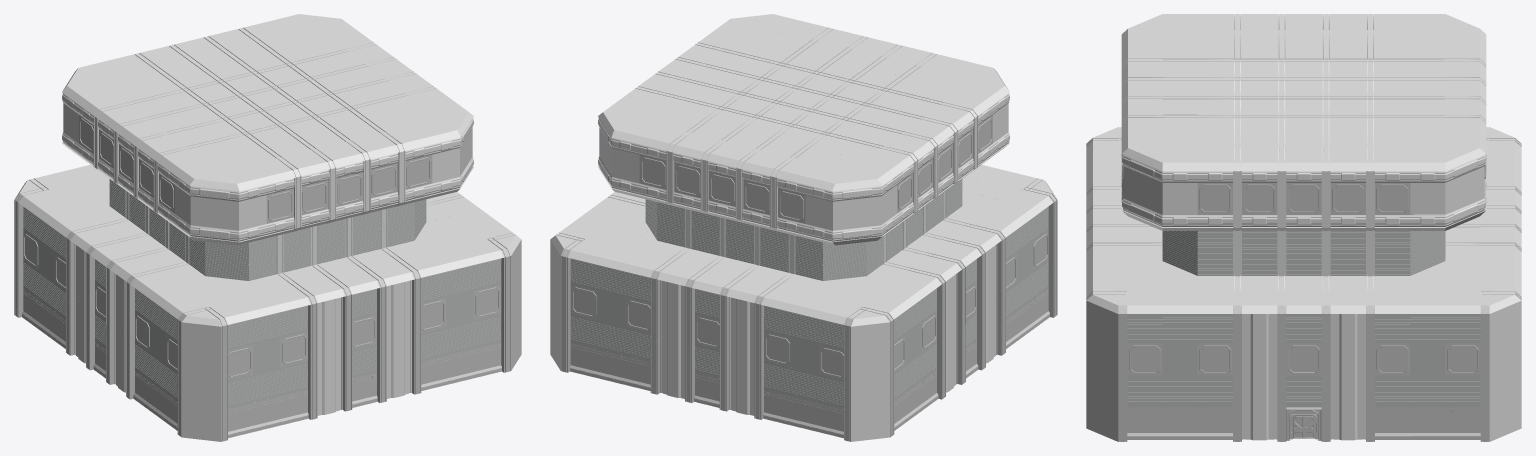
File: wall_2x4_corner_fbx.fbx
3 views of the same model, side by side, from view 1: azimuth 30°, elevation 25°; view 2: azimuth 150°, elevation 25°; view 3: azimuth 270°, elevation 25° (orthographic). The views are drawn at different scales.
Visible parts, largest first — view 1: wall2_2x2.001_Cube.013, wall2_2x2.001_Cube.094_wall2_2x2.001_Cube.327, roofEdge_1x1.298_wall4b_2x2.000_Cube.006, roofEdge_1x1.298_wall4b_2x2.000_Cube.007, roofEdge_1x1.242_wall4b_2x2.000_Cube.008, roofEdge_1x1.242_wall4b_2x2.000_Cube.053, roofEdge_1x1.242_wall4b_2x2.000_Cube.043, wall2_2x2.001_Cube.012, roofEdge_1x1.242_wall4b_2x2.000_Cube.058, wall2_2x2.001_Cube.094_wall2_2x2.001_Cube.000, wall2_2x2.001_Cube.009, wall2_2x2.001_Cube.007 (+104 smaller); view 2: wall2_2x2.001_Cube.019, wall2_2x2.001_Cube.094_wall2_2x2.001_Cube.002, roofEdge_1x1.298_wall4b_2x2.000_Cube.004, roofEdge_1x1.298_wall4b_2x2.000_Cube.005, roofEdge_1x1.242_wall4b_2x2.000_Cube.043, roofEdge_1x1.242_wall4b_2x2.000_Cube.058, roofEdge_1x1.242_wall4b_2x2.000_Cube.008, wall2_2x2.001_Cube.018, roofEdge_1x1.242_wall4b_2x2.000_Cube.053, wall2_2x2.001_Cube.094_wall2_2x2.001_Cube.001, wall2_2x2.001_Cube.015, wall2_2x2.001_Cube.017 (+104 smaller); view 3: wall2_2x2.001_Cube.012, wall2_2x2.001_Cube.018, wall2_2x2.001_Cube.094_wall2_2x2.001_Cube.000, wall2_2x2.001_Cube.094_wall2_2x2.001_Cube.001, roofEdge_1x1.242_wall4b_2x2.000_Cube.053, roofEdge_1x1.242_wall4b_2x2.000_Cube.058, roofEdge_1x1.298_wall4b_2x2.000_Cube.001, roofEdge_1x1.298_wall4b_2x2.000_Cube.003, roofEdge_1x1.298_wall4b_2x2.000_Cube.000, roofEdge_1x1.298_wall4b_2x2.000_Cube.002, roofEdge_1x1.242_wall4b_2x2.000_Cube.008, roofEdge_1x1.242_wall4b_2x2.000_Cube.043 (+189 smaller).
Part boxes in pixels (<box>): wall2_2x2.001_Cube.013: <box>189,236,276,280</box>; wall2_2x2.001_Cube.094_wall2_2x2.001_Cube.327: <box>175,185,266,230</box>; roofEdge_1x1.298_wall4b_2x2.000_Cube.006: <box>181,322,220,384</box>; roofEdge_1x1.298_wall4b_2x2.000_Cube.007: <box>181,380,220,441</box>; roofEdge_1x1.242_wall4b_2x2.000_Cube.008: <box>174,161,266,191</box>; roofEdge_1x1.242_wall4b_2x2.000_Cube.053: <box>414,100,473,143</box>; roofEdge_1x1.242_wall4b_2x2.000_Cube.043: <box>62,61,121,103</box>; wall2_2x2.001_Cube.012: <box>387,199,426,247</box>; roofEdge_1x1.242_wall4b_2x2.000_Cube.058: <box>272,14,357,36</box>; wall2_2x2.001_Cube.094_wall2_2x2.001_Cube.000: <box>432,128,472,183</box>; wall2_2x2.001_Cube.009: <box>352,210,379,255</box>; wall2_2x2.001_Cube.007: <box>318,219,345,263</box>; wall2_2x2.001_Cube.019: <box>795,236,882,280</box>; wall2_2x2.001_Cube.094_wall2_2x2.001_Cube.002: <box>805,185,896,230</box>; roofEdge_1x1.298_wall4b_2x2.000_Cube.004: <box>851,322,890,384</box>; roofEdge_1x1.298_wall4b_2x2.000_Cube.005: <box>851,380,890,441</box>; roofEdge_1x1.242_wall4b_2x2.000_Cube.043: <box>805,161,897,191</box>; roofEdge_1x1.242_wall4b_2x2.000_Cube.058: <box>598,100,657,143</box>; roofEdge_1x1.242_wall4b_2x2.000_Cube.008: <box>950,61,1009,103</box>; wall2_2x2.001_Cube.018: <box>645,199,684,247</box>; roofEdge_1x1.242_wall4b_2x2.000_Cube.053: <box>715,14,799,36</box>; wall2_2x2.001_Cube.094_wall2_2x2.001_Cube.001: <box>599,128,639,183</box>; wall2_2x2.001_Cube.015: <box>691,210,719,255</box>; wall2_2x2.001_Cube.017: <box>761,227,788,272</box>; wall2_2x2.001_Cube.012: <box>1162,231,1232,275</box>; wall2_2x2.001_Cube.018: <box>1375,231,1445,275</box>; wall2_2x2.001_Cube.094_wall2_2x2.001_Cube.000: <box>1123,166,1197,214</box>; wall2_2x2.001_Cube.094_wall2_2x2.001_Cube.001: <box>1410,166,1484,214</box>; roofEdge_1x1.242_wall4b_2x2.000_Cube.053: <box>1121,133,1197,171</box>; roofEdge_1x1.242_wall4b_2x2.000_Cube.058: <box>1410,133,1486,171</box>; roofEdge_1x1.298_wall4b_2x2.000_Cube.001: <box>1086,364,1118,441</box>; roofEdge_1x1.298_wall4b_2x2.000_Cube.003: <box>1489,364,1521,441</box>; roofEdge_1x1.298_wall4b_2x2.000_Cube.000: <box>1086,301,1118,377</box>; roofEdge_1x1.298_wall4b_2x2.000_Cube.002: <box>1489,301,1521,377</box>; roofEdge_1x1.242_wall4b_2x2.000_Cube.008: <box>1121,14,1197,48</box>; roofEdge_1x1.242_wall4b_2x2.000_Cube.043: <box>1410,14,1486,48</box>.
Bounding box in the file's own units: 2468 × 1637 × 2468.
